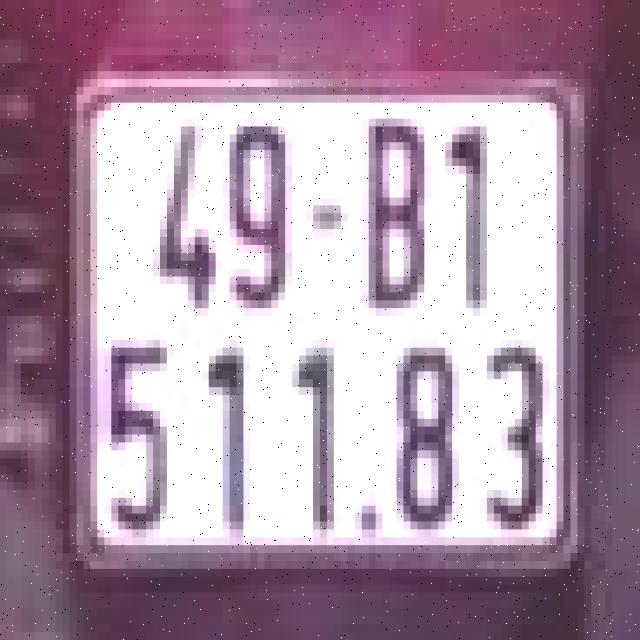1: (285, 336, 341, 533), (442, 119, 497, 316), (202, 336, 250, 533)
3: (480, 340, 550, 529)
4: (153, 115, 223, 312)
5: (101, 332, 177, 537)
8: (393, 336, 463, 533)
9: (230, 119, 292, 308)
B: (358, 111, 428, 316)
